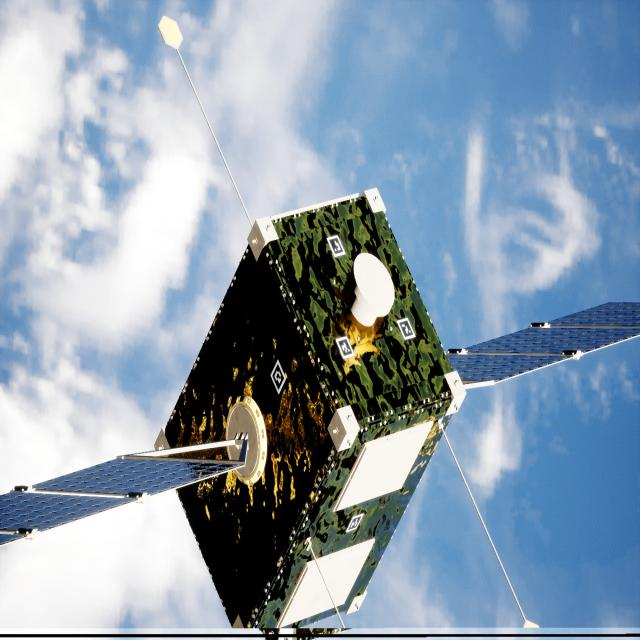satellite: (0, 189, 640, 635)
